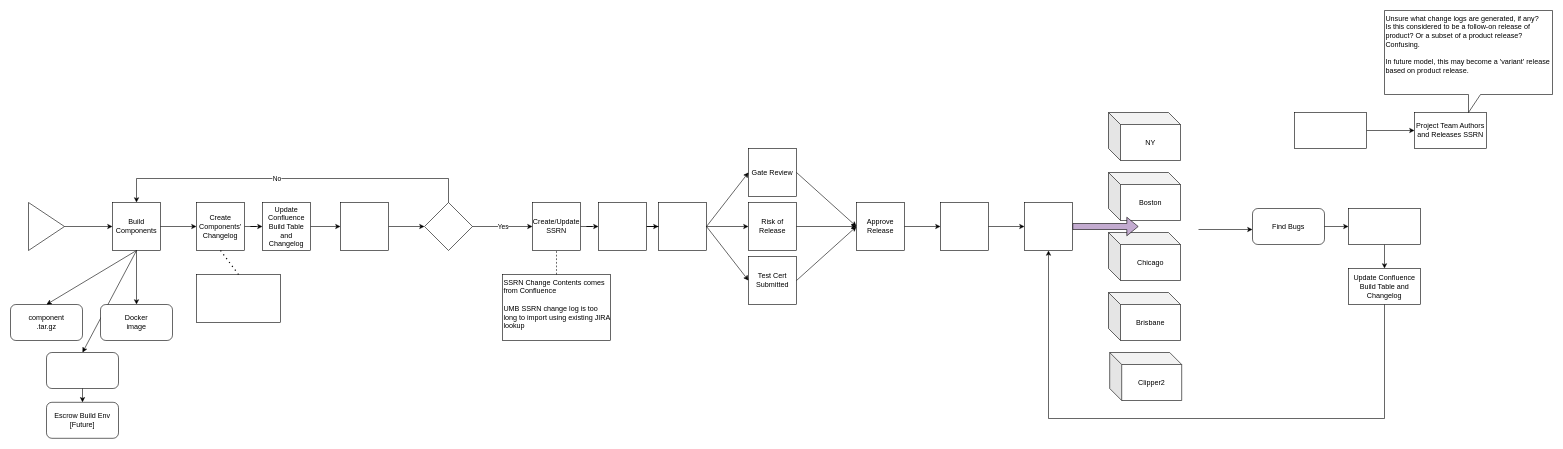
This 1563x449 diagram has some shape labels left out. The shapes that lost their labels are listed below. From the top down, each one's centre as x and y in pixels, then its label:
the point at 1330,130: Project Team Approves Release
the point at 46,226: Inputs
the point at 364,226: Deploy and Test
the point at 448,226: Ready for Certification
the point at 622,226: Final Certification Testing
the point at 682,226: Send SSRN for Approval
the point at 964,226: Product Released
the point at 1048,226: Project Lab Testing
the point at 1384,226: Build Component
the point at 238,298: Non-Standarized Components' Changelog Process Remains Unchanged
the point at 82,370: Source Code [Future]
